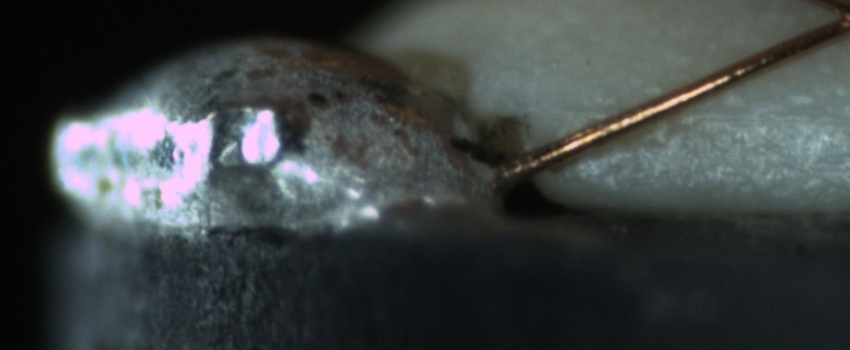CL: (807, 1, 848, 42)
DL: (563, 83, 849, 142)
